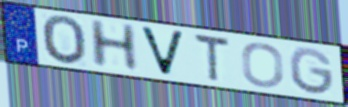G: (287, 46, 336, 97)
H: (87, 18, 142, 72)
O: (40, 14, 89, 67), (241, 41, 287, 89)
T: (192, 31, 232, 85)
V: (137, 24, 188, 79)
